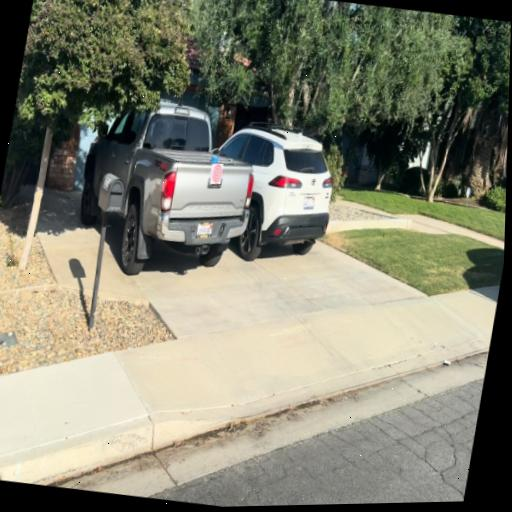bullseye: (211, 164, 223, 185)
